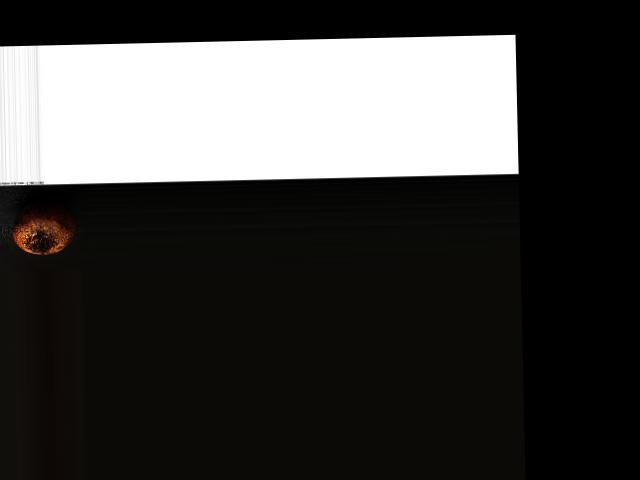beet: (12, 197, 78, 254)
